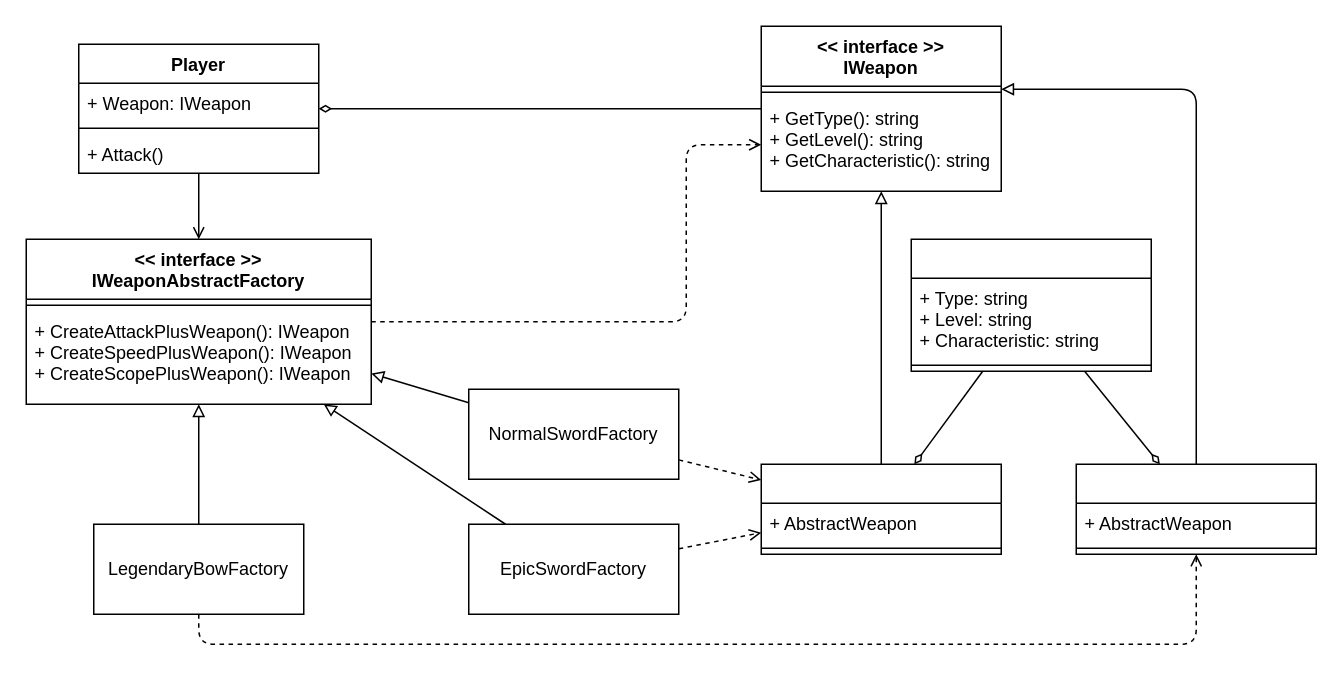
This 1343x683 diagram has some shape labels left out. The shapes that lost their labels are listed below. From the top down, each one's box as (x1, y1, x2, y2) in pixels, then its label:
(910, 238, 1151, 371): AbstractWeapon
(760, 463, 1001, 554): Sword
(1075, 463, 1316, 554): Bow
